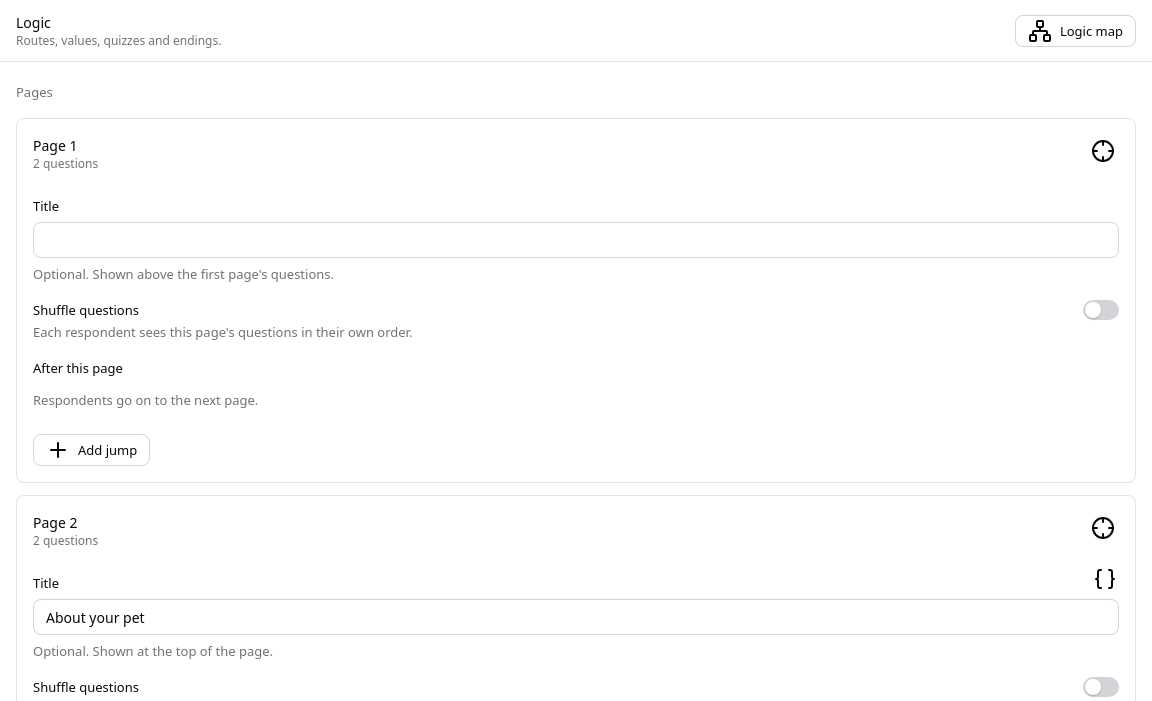
Test case: LogicPanel › warns about pages nobody can reach
Click the button "Add jump" at (92, 450), box [33,434,150,466]
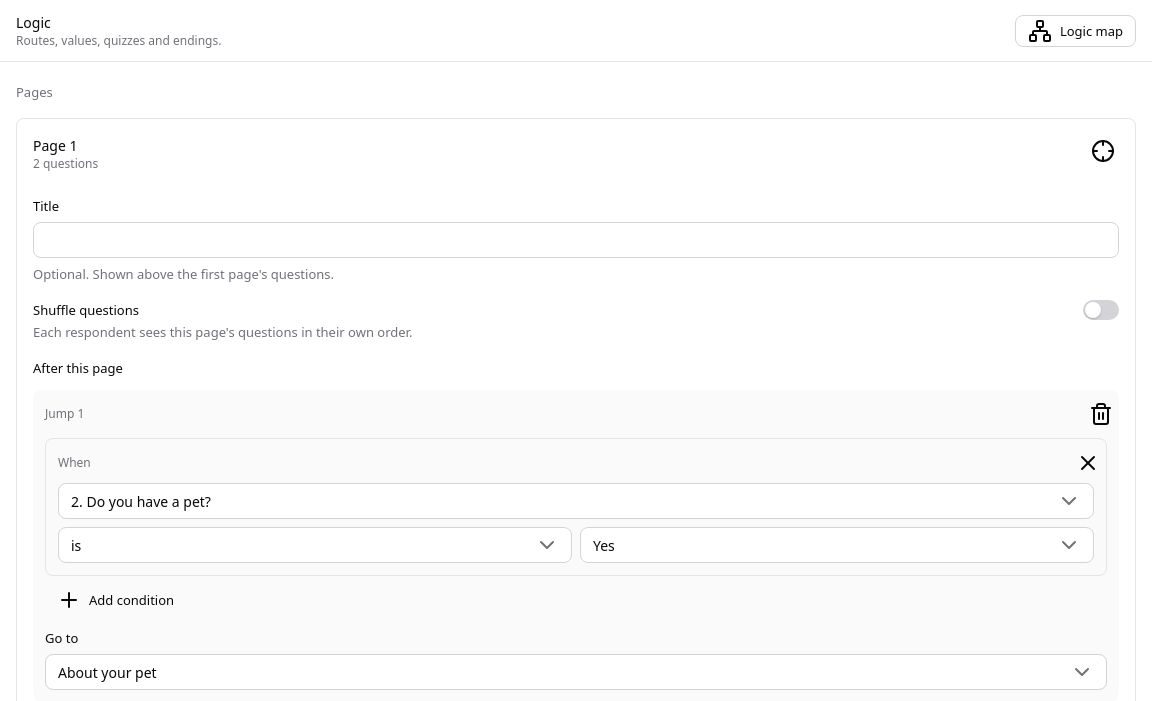
Click the button named "Remove page 1, jump 1, condition 1" at (1088, 463), box [1076,451,1100,475]
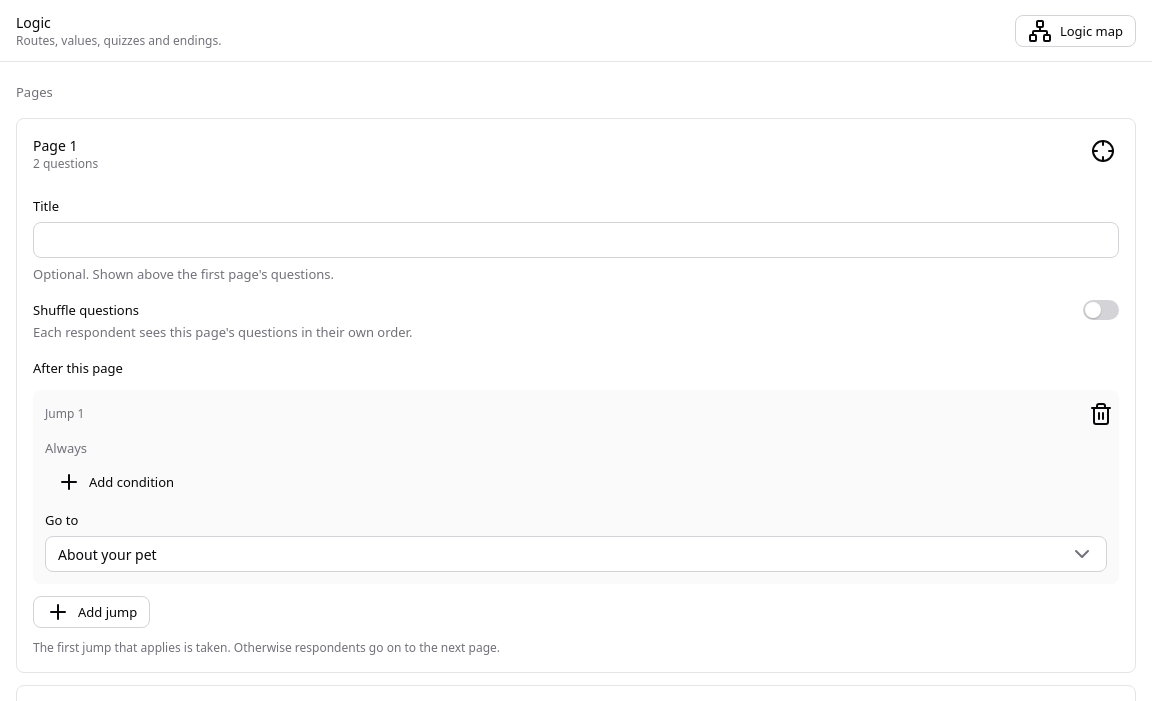
Click the dropdown named "Go to" at (107, 554), box [45,536,1107,572]
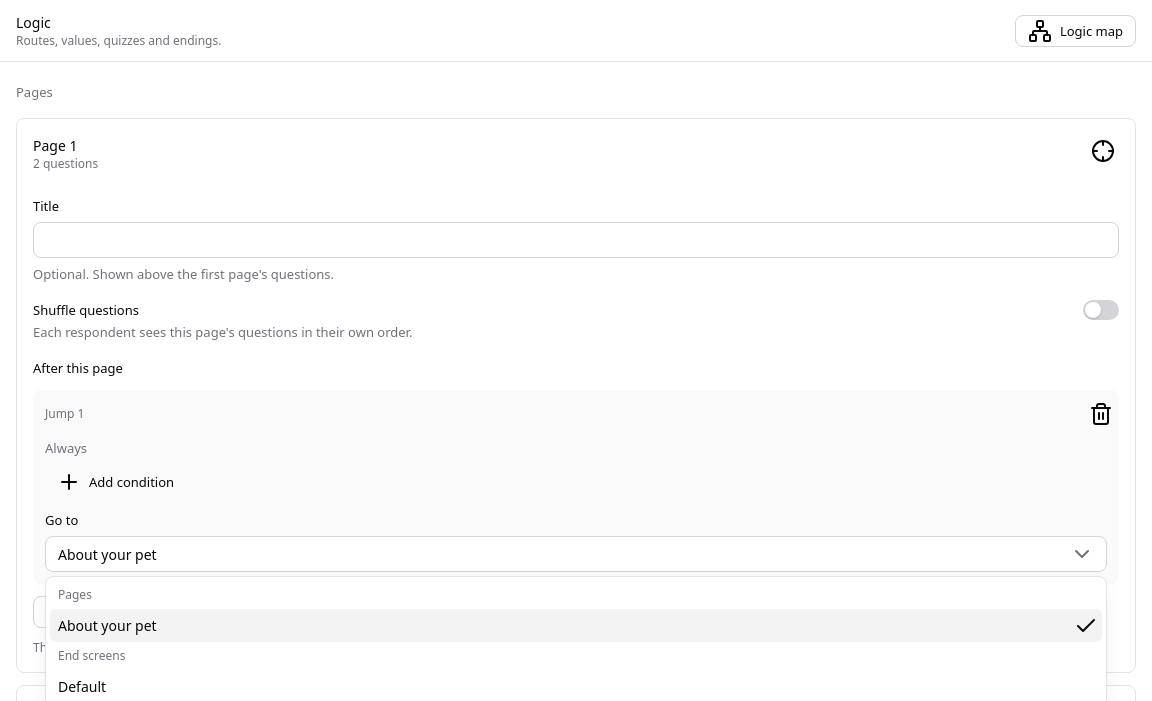
Click the option "Default" at (82, 686), box [58,677,106,696]
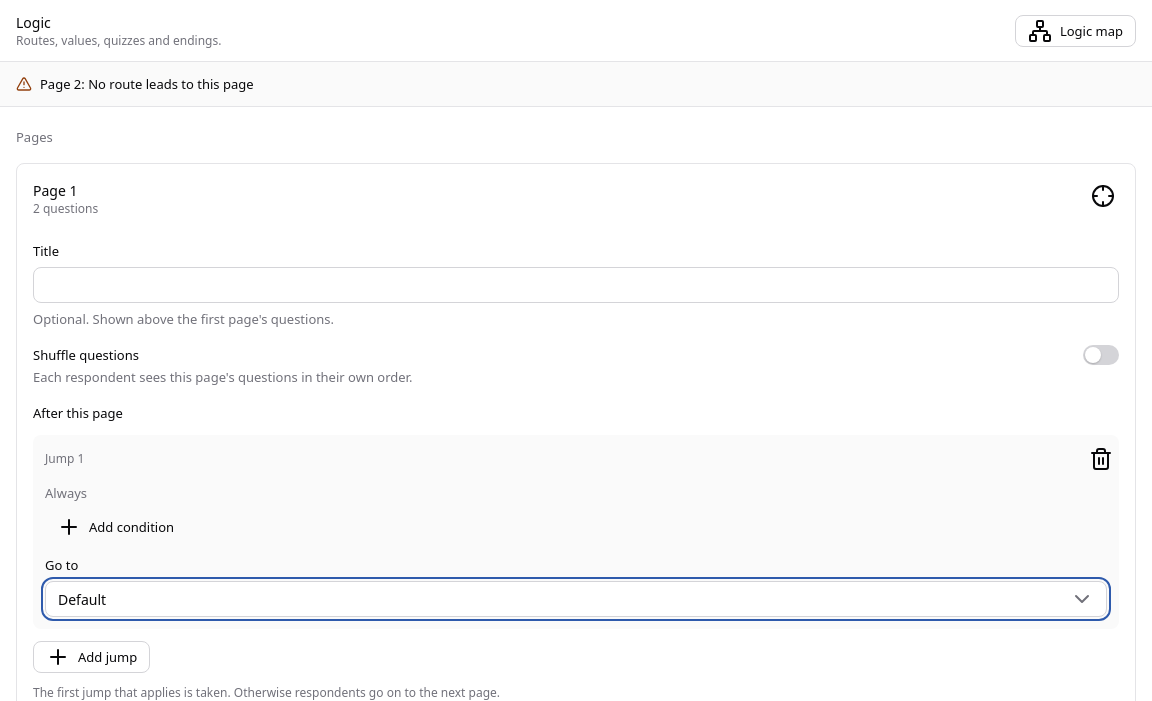
Now the text "No route leads to this page" is shown, box [88,75,254,93]
